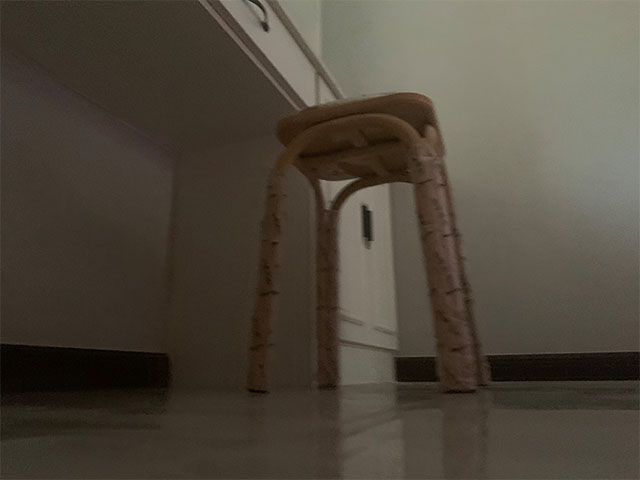cabinet: (1, 1, 397, 387)
stool: (244, 90, 493, 393)
